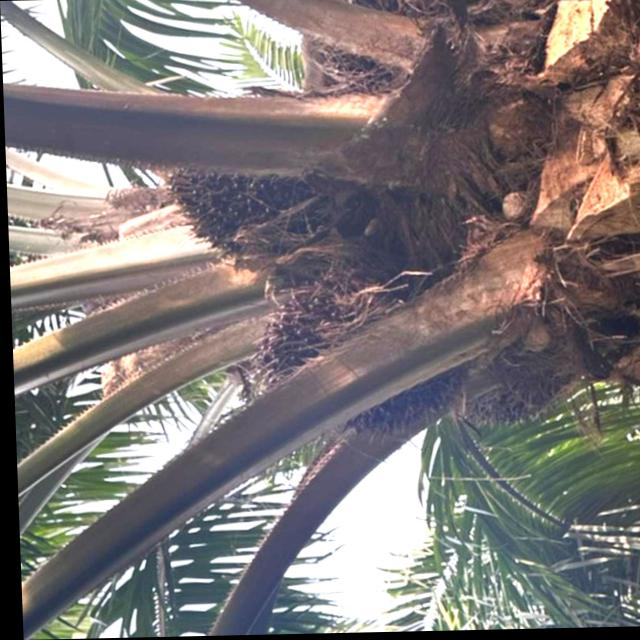ripe: (224, 262, 473, 454)
